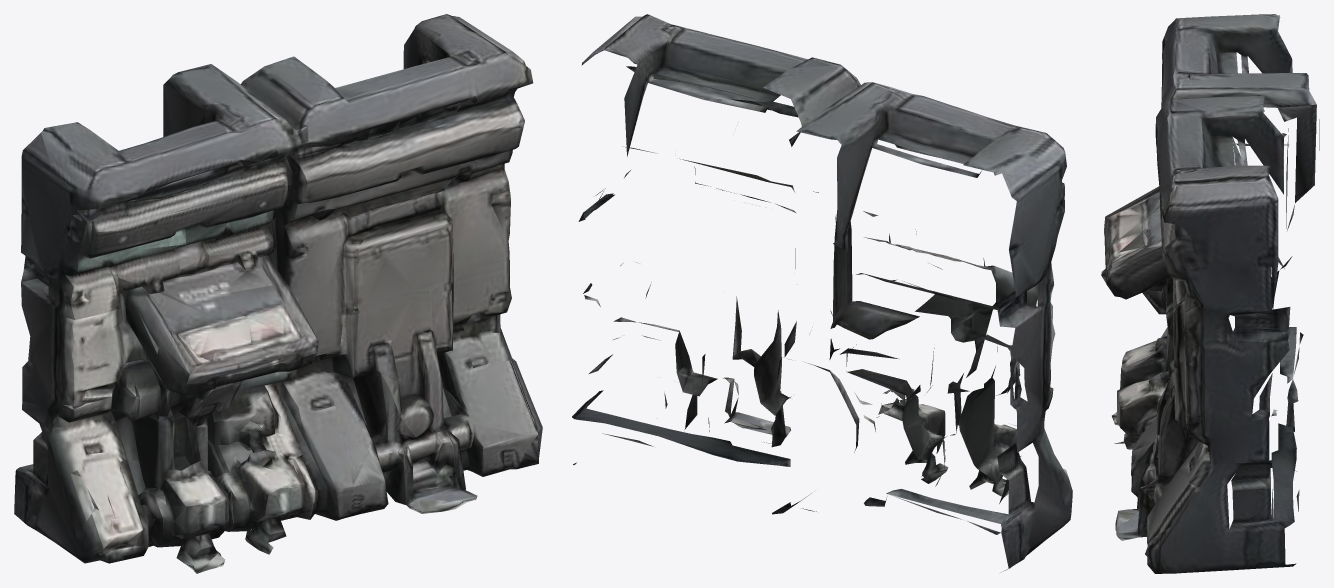
The model's file is hangar_panel_d.glb.
The picture shows the model from 3 angles, left to right: view 1: azimuth 30°, elevation 25°; view 2: azimuth 150°, elevation 25°; view 3: azimuth 270°, elevation 25°; orthographic projection. The views are drawn at different scales.
Parts seen in each view (by area): view 1: hangar_panel_d; view 2: hangar_panel_d; view 3: hangar_panel_d.
Part boxes in pixels (x1,y1,x2,y2): hangar_panel_d: [14, 14, 542, 573]; hangar_panel_d: [572, 14, 1072, 572]; hangar_panel_d: [1101, 14, 1319, 573].
Bounding box in the file's own units: 0.3595 × 0.3134 × 0.159.
Materials: 1 (1 with a texture image).
